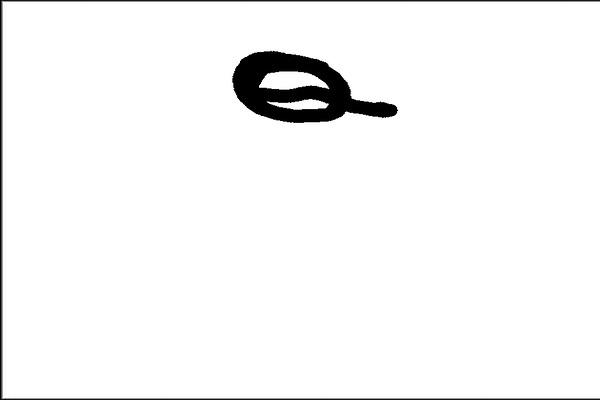Q: (225, 33, 399, 131)
